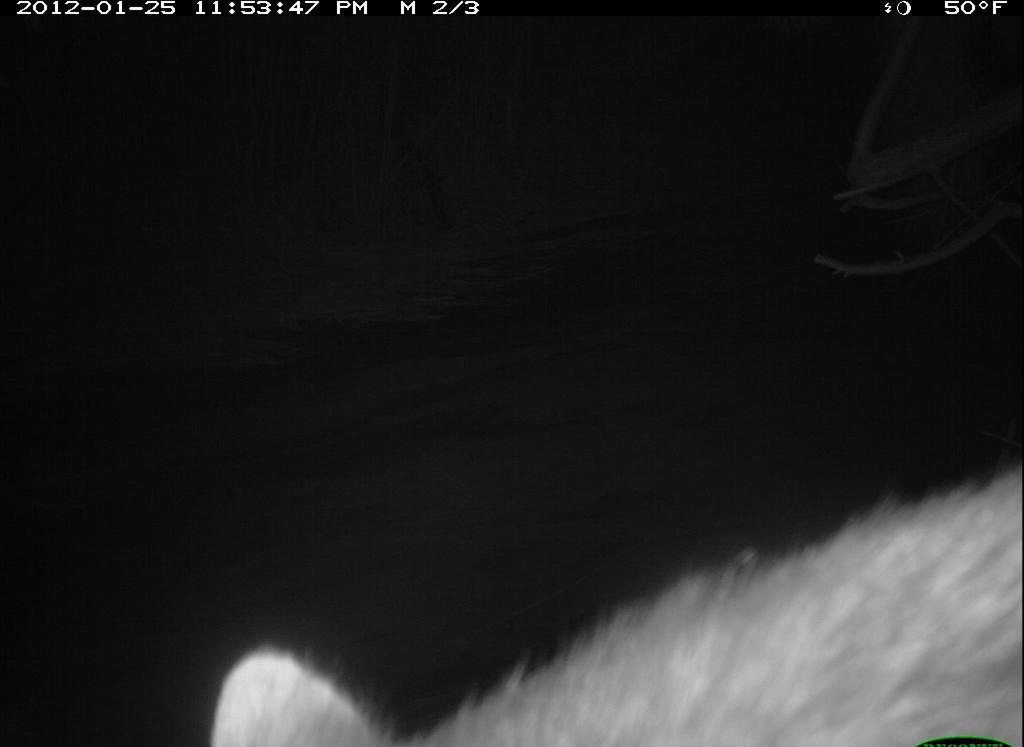raccoon: (207, 469, 1023, 747)
